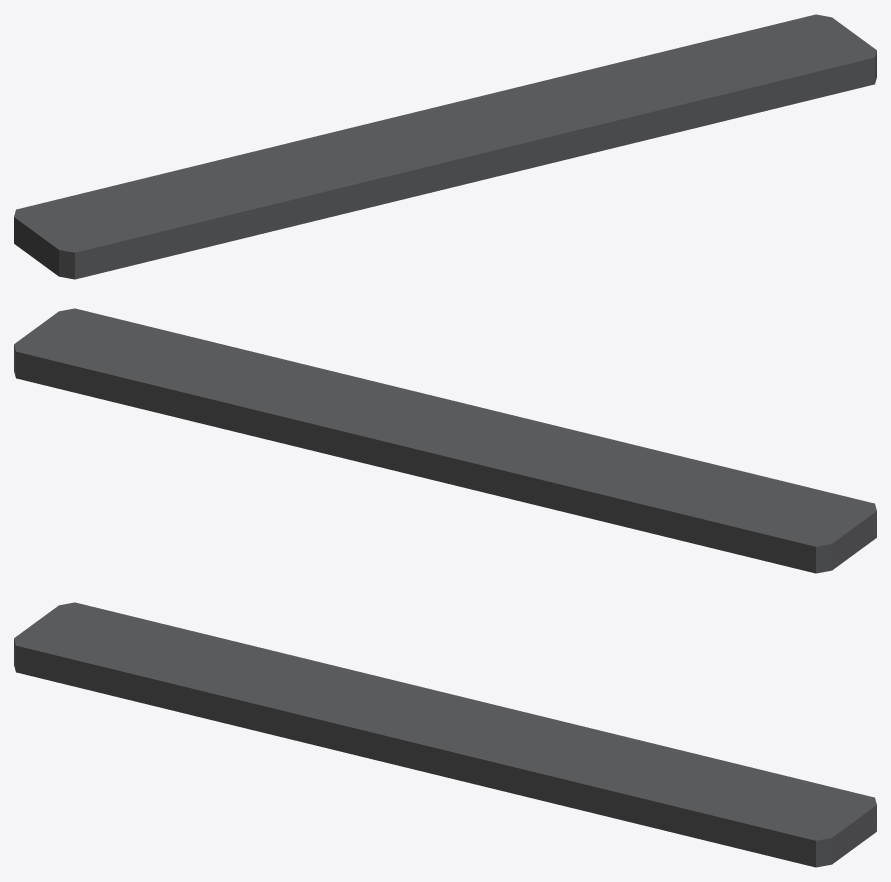
File: Obj_CeilingLight.fbx
The picture shows the model from 3 angles, top to bottom: view 1: azimuth 30°, elevation 25°; view 2: azimuth 150°, elevation 25°; view 3: azimuth 330°, elevation 25°; orthographic projection.
Visible parts, largest first — view 1: Obj_CeilingLight; view 2: Obj_CeilingLight; view 3: Obj_CeilingLight.
Boxes of the visible parts, left/top/right/bottom form: Obj_CeilingLight: left=14, top=14, right=876, bottom=279; Obj_CeilingLight: left=14, top=308, right=876, bottom=573; Obj_CeilingLight: left=14, top=602, right=876, bottom=867.
Bounding box in the file's own units: 4 × 0.125 × 0.5.
